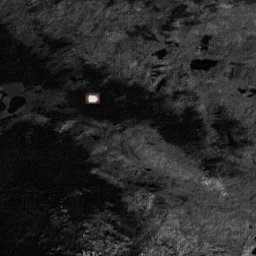Target: (87, 92, 99, 104)
